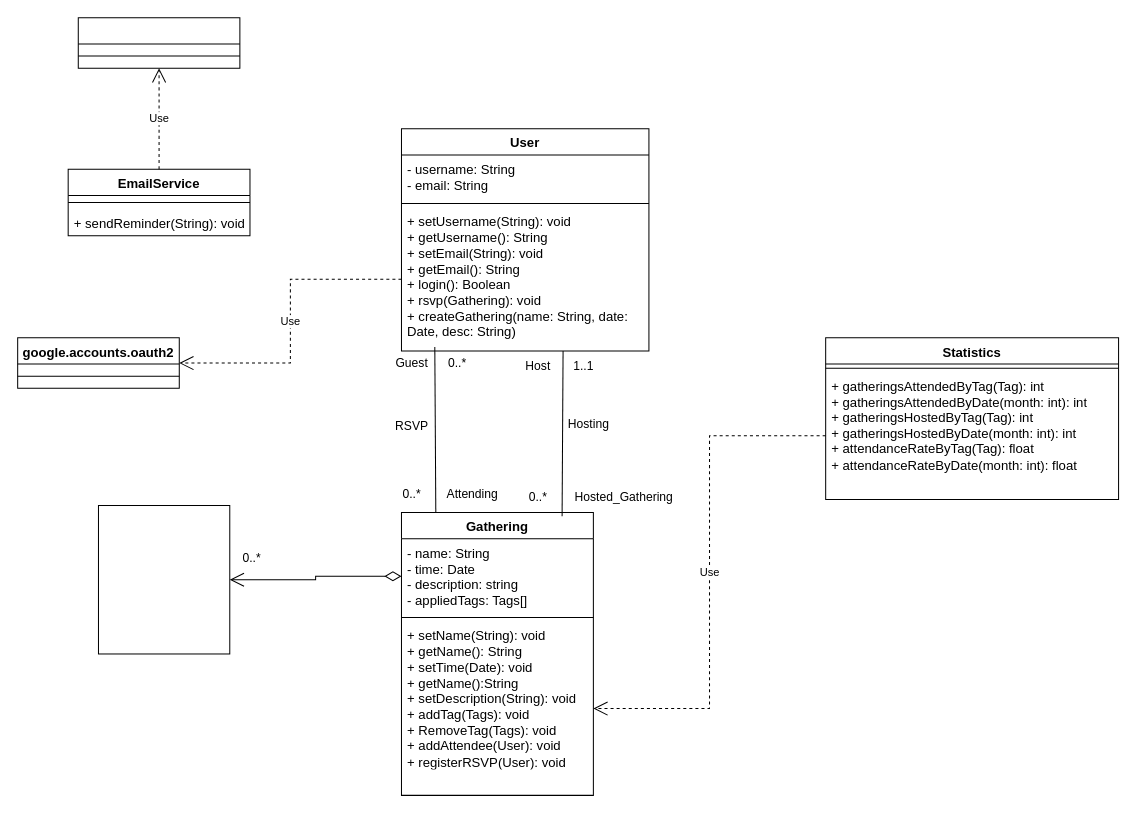
Some shapes in this 1136 by 816 pixel diagram are drawn without their labels. Each missing label, with the centre of its shape:
<<Enumeration>> Tags Party Business Charity Education Wedding Sports: the point at 163,579
@aws-sdk/client-ses: the point at 158,42
